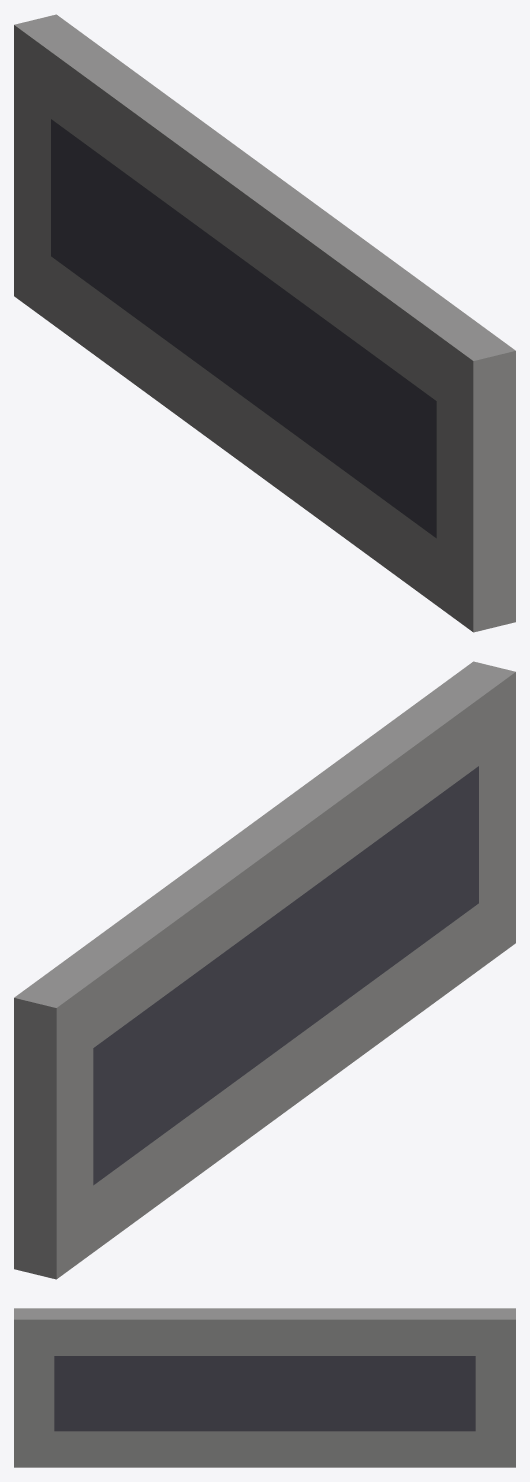
Rendered from wall1.FBX.
3 views of the same model, one above another, from view 1: azimuth 30°, elevation 25°; view 2: azimuth 150°, elevation 25°; view 3: azimuth 270°, elevation 25° (orthographic). The views are drawn at different scales.
Visible parts, largest first — view 1: wall1; view 2: wall1; view 3: wall1.
Part boxes in pixels (x1,y1,x2,y2): wall1: (14,14,515,632); wall1: (14,661,515,1279); wall1: (14,1308,515,1467).
Bounding box in the file's own units: 0.4272 × 2.61 × 8.
